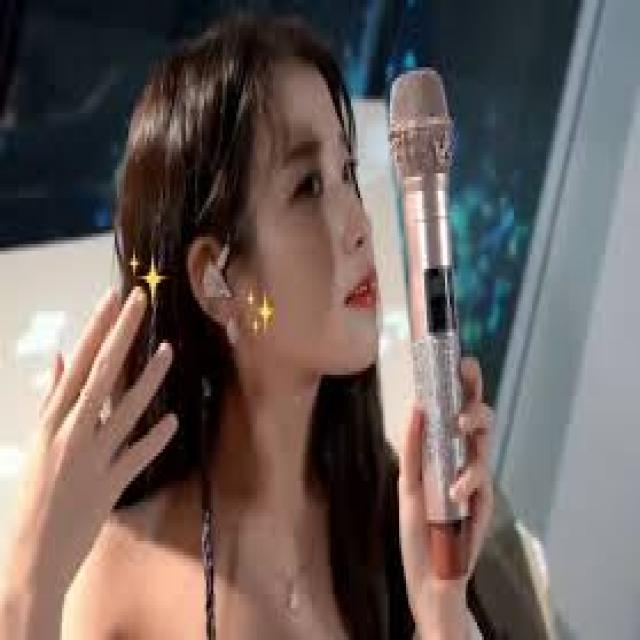earphone: (186, 235, 242, 310)
